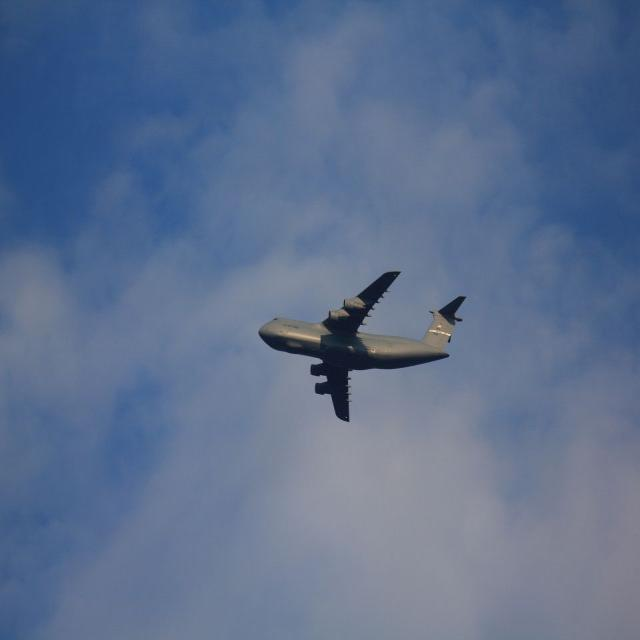MIL_Plane: (258, 270, 467, 423)
